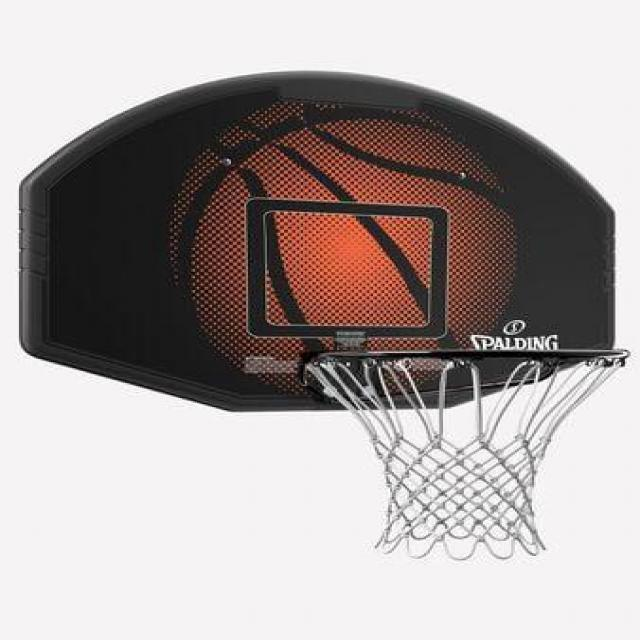hoop: (308, 350, 632, 561)
